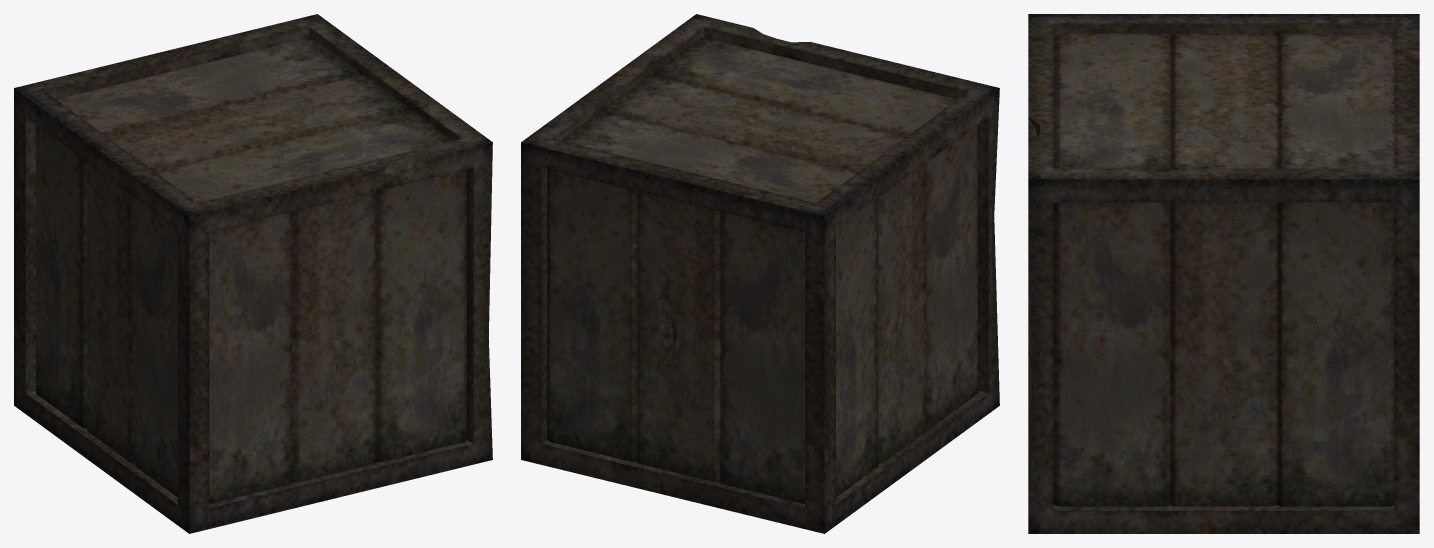
The model's file is wooden_crate_3.glb.
3 views of the same model, side by side, from view 1: azimuth 30°, elevation 25°; view 2: azimuth 150°, elevation 25°; view 3: azimuth 270°, elevation 25° (orthographic). The views are drawn at different scales.
Visible parts, largest first — view 1: wooden_crate_3; view 2: wooden_crate_3; view 3: wooden_crate_3.
Boxes of the visible parts, left/top/right/bottom form: wooden_crate_3: left=14, top=14, right=492, bottom=533; wooden_crate_3: left=521, top=14, right=999, bottom=533; wooden_crate_3: left=1028, top=14, right=1419, bottom=533.
Bounding box in the file's own units: 1.08 × 1.08 × 1.08.
1 material, 1 textured.
